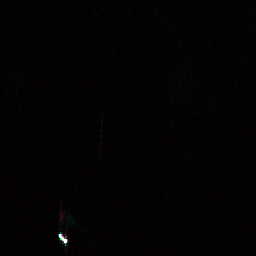ship: (55, 230, 70, 246)
